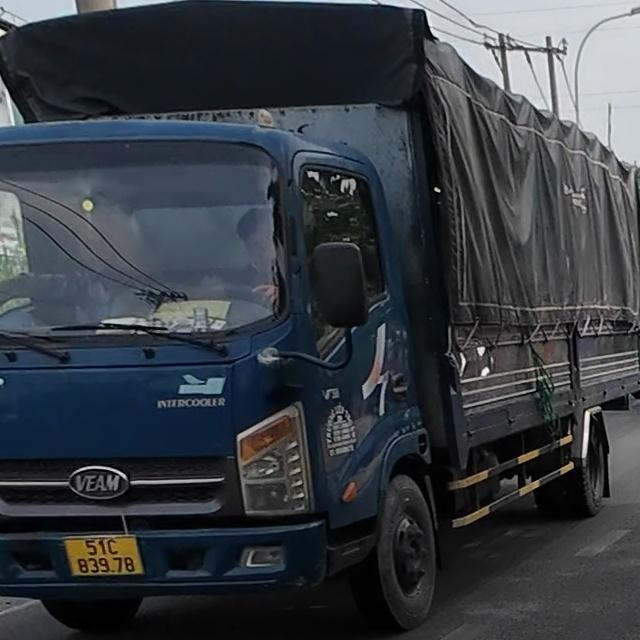license-plate: (64, 535, 143, 576)
